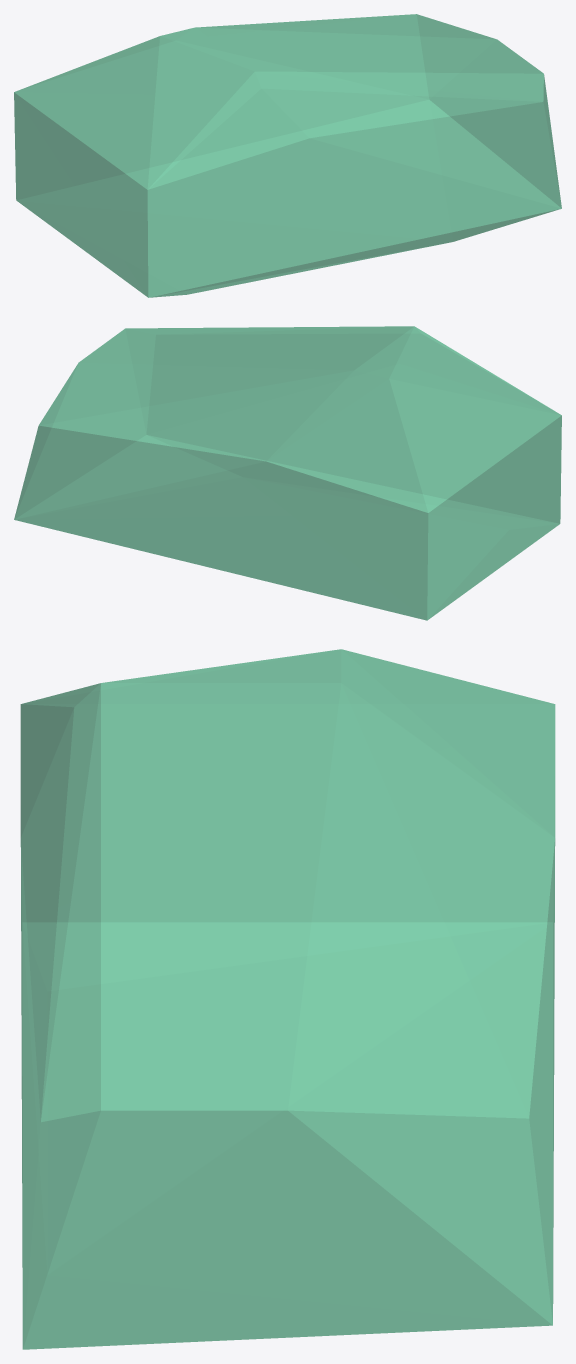
3 views of the same model, one above another, from view 1: azimuth 30°, elevation 25°; view 2: azimuth 150°, elevation 25°; view 3: azimuth 270°, elevation 25° (orthographic). The views are drawn at different scales.
Visible parts, largest first — view 1: Shape_IndexedFaceSet.032_Shape_IndexedFaceSet.18008; view 2: Shape_IndexedFaceSet.032_Shape_IndexedFaceSet.18008; view 3: Shape_IndexedFaceSet.032_Shape_IndexedFaceSet.18008.
Boxes of the visible parts, x1,y1,x2,y2 form: Shape_IndexedFaceSet.032_Shape_IndexedFaceSet.18008: [14, 14, 561, 297]; Shape_IndexedFaceSet.032_Shape_IndexedFaceSet.18008: [14, 326, 561, 620]; Shape_IndexedFaceSet.032_Shape_IndexedFaceSet.18008: [20, 649, 555, 1349].
Bounding box in the file's own units: 0.2735 × 0.1291 × 0.152.
